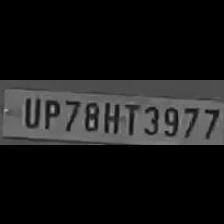3: (140, 100, 158, 136)
7: (198, 104, 220, 140), (60, 96, 80, 132), (180, 104, 198, 138)
8: (80, 96, 100, 132)
9: (160, 102, 180, 138)
H: (100, 98, 122, 134)
P: (38, 94, 60, 130)
T: (121, 99, 139, 136)
U: (20, 93, 40, 127)
